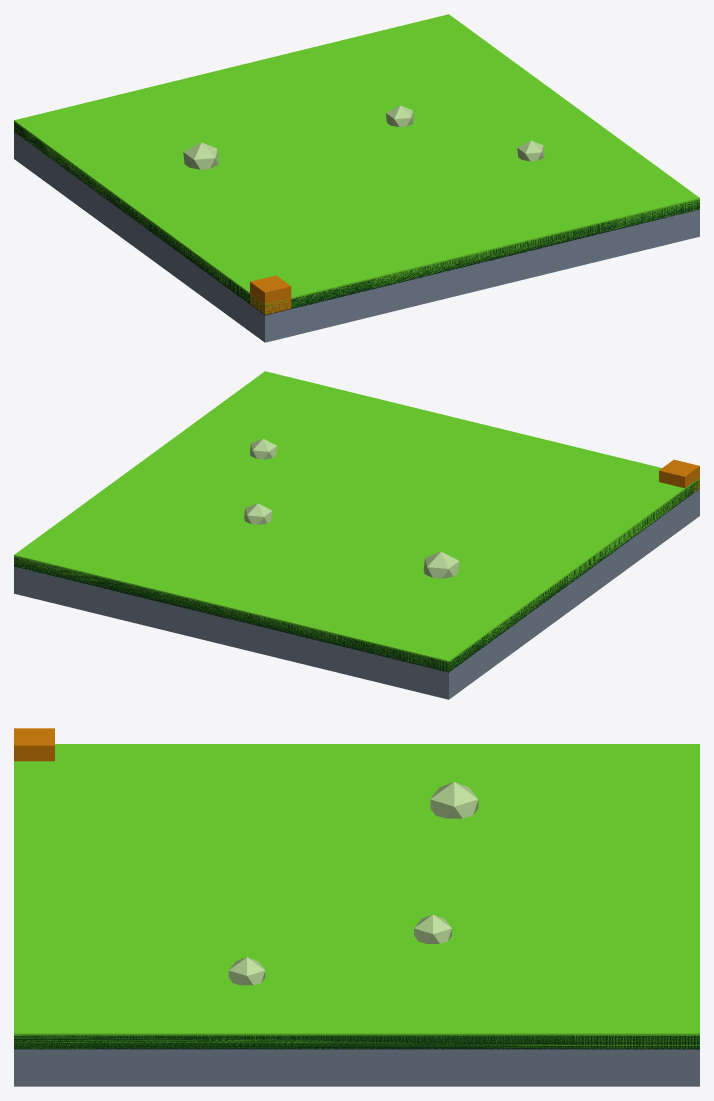
The model's file is SM_Acid_Pool_InnerCorner_2x2.glb.
3 views of the same model, one above another, from view 1: azimuth 30°, elevation 25°; view 2: azimuth 150°, elevation 25°; view 3: azimuth 270°, elevation 25° (orthographic). The views are drawn at different scales.
Parts seen in each view (by area): view 1: SM_Acid_Pool_InnerCorner_2x2-col; view 2: SM_Acid_Pool_InnerCorner_2x2-col; view 3: SM_Acid_Pool_InnerCorner_2x2-col.
Boxes of the visible parts, left/top/right/bottom form: SM_Acid_Pool_InnerCorner_2x2-col: left=14, top=14, right=699, bottom=342; SM_Acid_Pool_InnerCorner_2x2-col: left=14, top=371, right=699, bottom=699; SM_Acid_Pool_InnerCorner_2x2-col: left=14, top=728, right=699, bottom=1086.
Size of the model in its own units: 2 by 0.2576 by 2.
